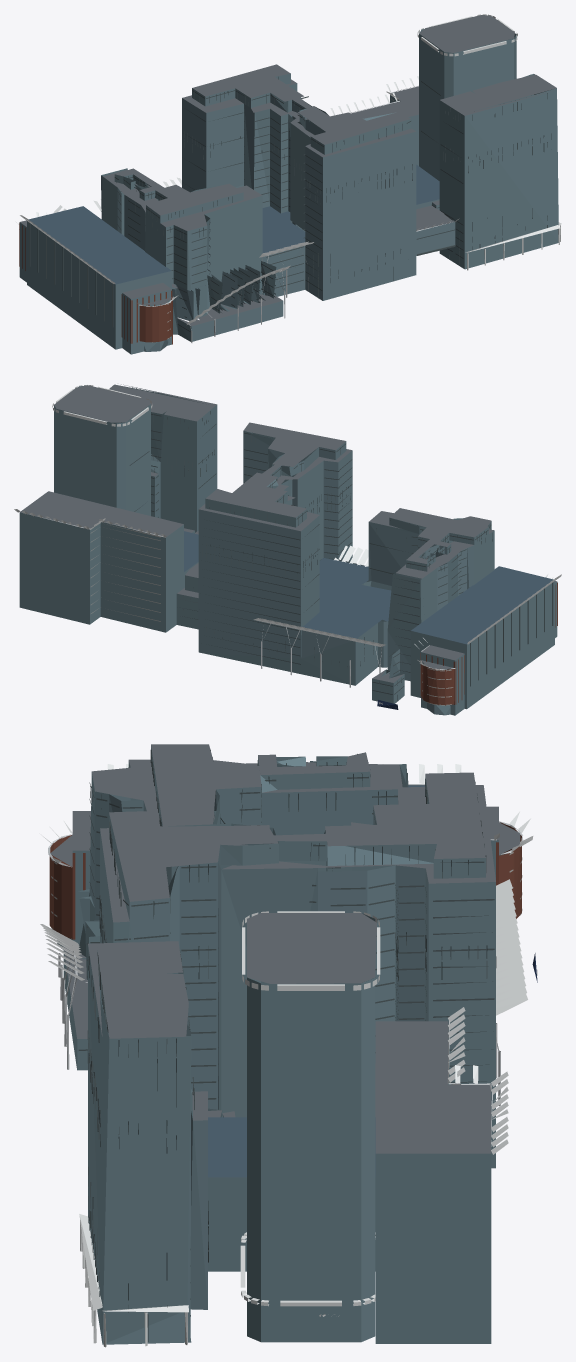
File: wtc-amsterdam.lod1.glb
3 renders of one model, top to bottom at view 1: azimuth 30°, elevation 25°; view 2: azimuth 150°, elevation 25°; view 3: azimuth 270°, elevation 25°, orthographic. The views are drawn at different scales.
Parts seen in each view (by area): view 1: wtc-amsterdam; view 2: wtc-amsterdam; view 3: wtc-amsterdam.
Boxes of the visible parts, <box> form: wtc-amsterdam: <box>16,14,561,354</box>; wtc-amsterdam: <box>14,384,561,715</box>; wtc-amsterdam: <box>40,744,537,1347</box>.
Size of the model in its own units: 205 by 78 by 98.39.
